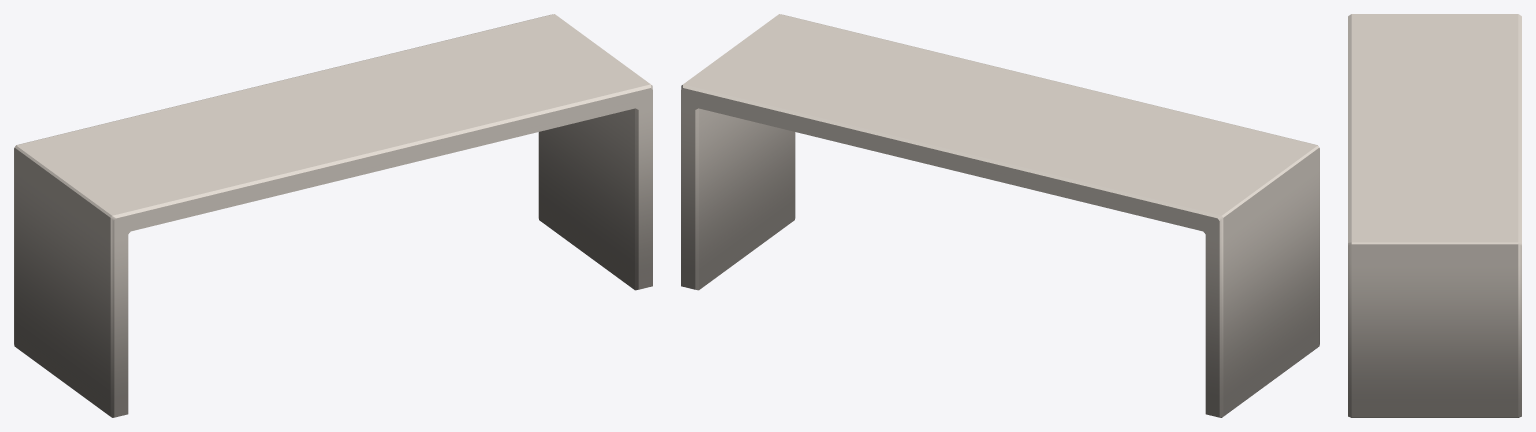
Rendered from Table_01.fbx.
3 renders of one model, left to right at view 1: azimuth 30°, elevation 25°; view 2: azimuth 150°, elevation 25°; view 3: azimuth 270°, elevation 25°, orthographic. The views are drawn at different scales.
Parts seen in each view (by area): view 1: Box002; view 2: Box002; view 3: Box002.
Part boxes in pixels (x1,y1,x2,y2): Box002: (14, 14, 652, 417); Box002: (681, 14, 1319, 417); Box002: (1348, 14, 1521, 417).
Bounding box in the file's own units: 252 × 89.81 × 80.58.
